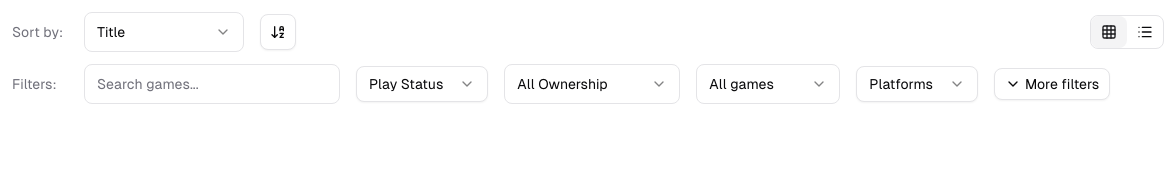
GameFilters › storefront filter (multi-select) › renders storefronts multi-select button in expanded section
Click "More filters" to expand
Click the button "More filters".
click(1052, 84)  # box [994, 68, 1110, 100]
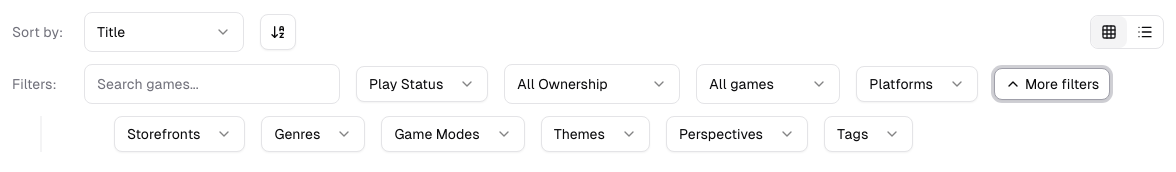
Result: the dropdown "Storefronts" is shown at [114, 116, 245, 152]
